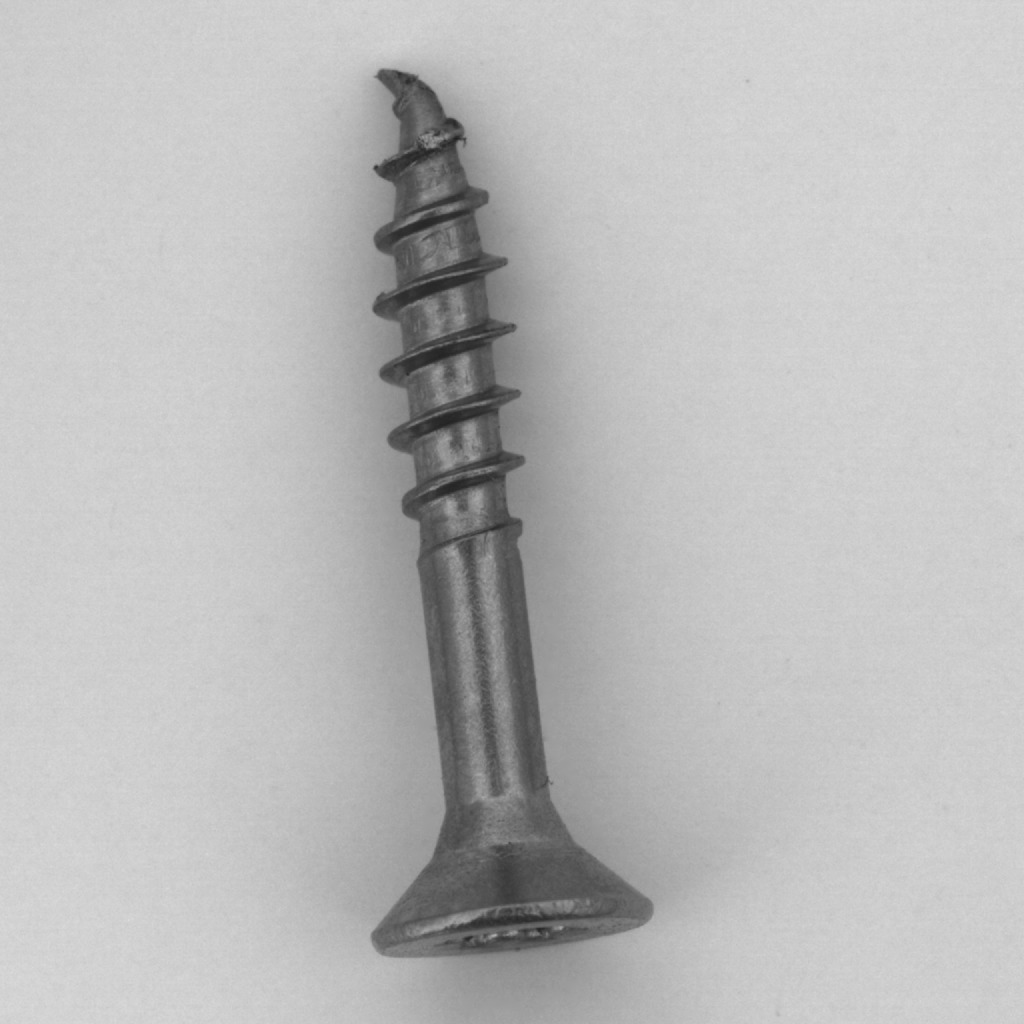manipulated_front: (322, 24, 511, 188)
